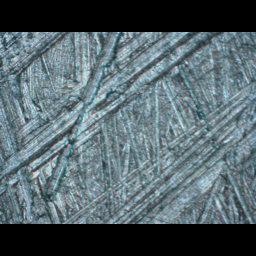d: (0, 32, 236, 178), (64, 77, 255, 224), (0, 32, 70, 88)
